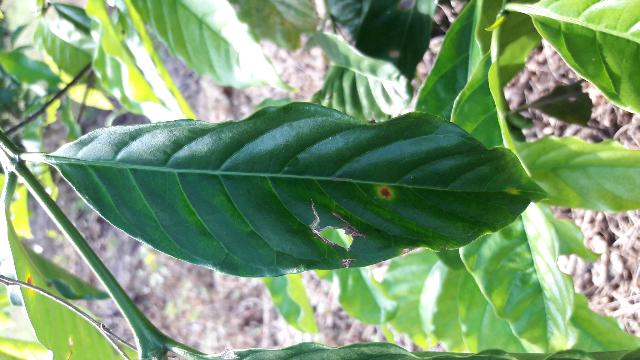red_spider_mite: (52, 104, 547, 278)
